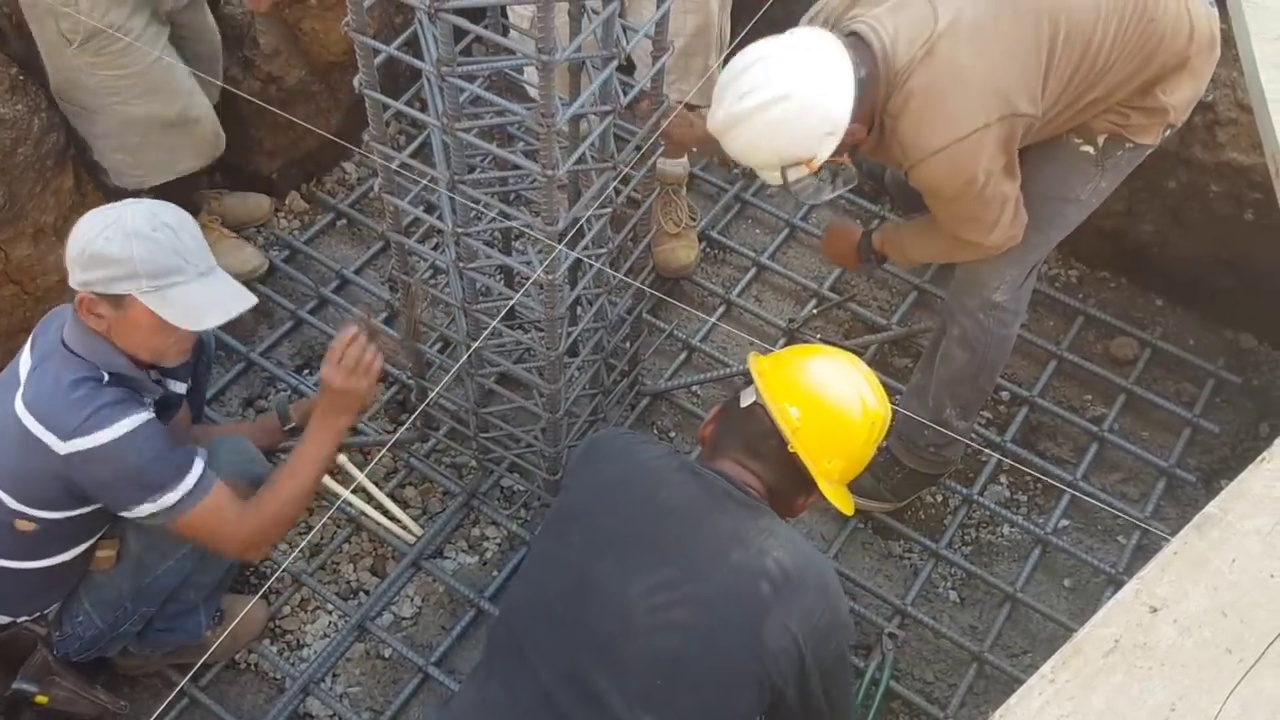helmet: (746, 345, 894, 516), (703, 27, 856, 189)
helmet-off: (64, 192, 260, 372)
helmet-on: (688, 340, 892, 520), (705, 16, 888, 194)
person: (704, 2, 1225, 487), (0, 195, 383, 678), (430, 345, 894, 719), (15, 1, 278, 274)
